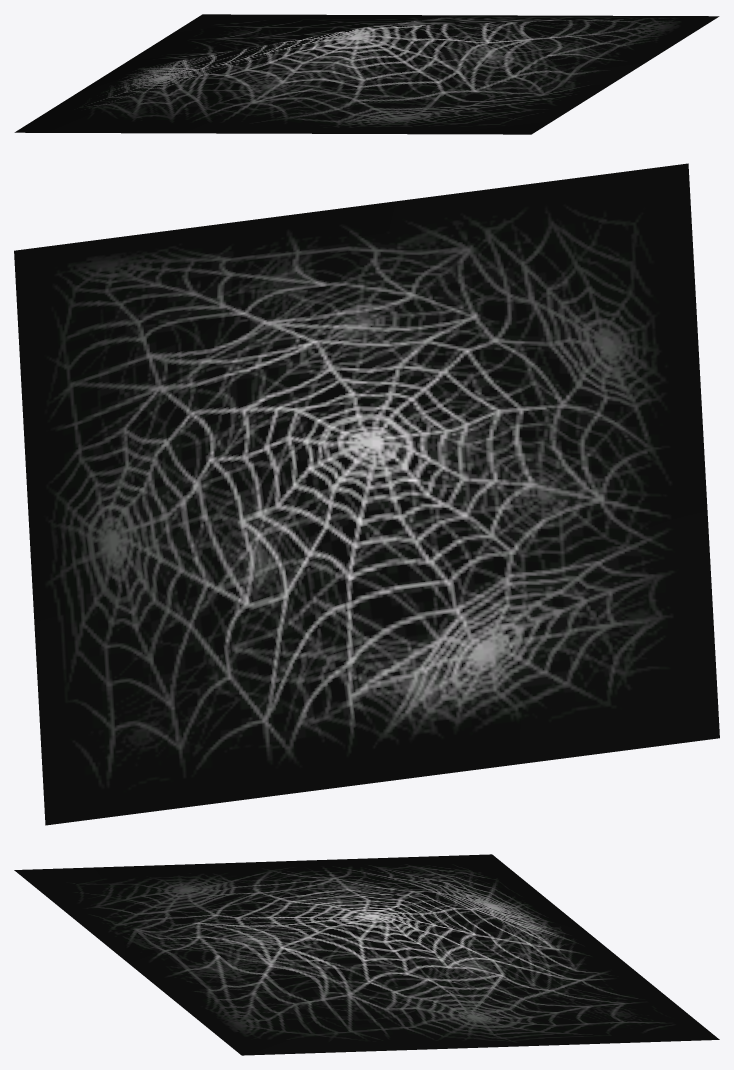
The model's file is MIRKWOOD_PLANE50.fbx.
3 views of the same model, one above another, from view 1: azimuth 30°, elevation 25°; view 2: azimuth 150°, elevation 25°; view 3: azimuth 270°, elevation 25° (orthographic). The views are drawn at different scales.
Visible parts, largest first — view 1: MIRKWOOD_PLANE50; view 2: MIRKWOOD_PLANE50; view 3: MIRKWOOD_PLANE50.
Boxes of the visible parts, bbox=[...] form: MIRKWOOD_PLANE50: bbox=[14, 14, 719, 134]; MIRKWOOD_PLANE50: bbox=[14, 163, 719, 825]; MIRKWOOD_PLANE50: bbox=[14, 854, 719, 1055].
Bounding box in the file's own units: 192137 × 50395 × 212358.
Materials: 1 (1 with a texture image).
